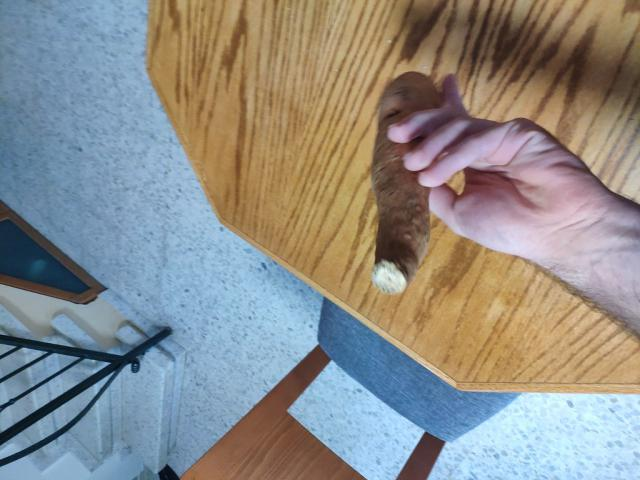sweet_potato: (375, 108, 422, 298)
